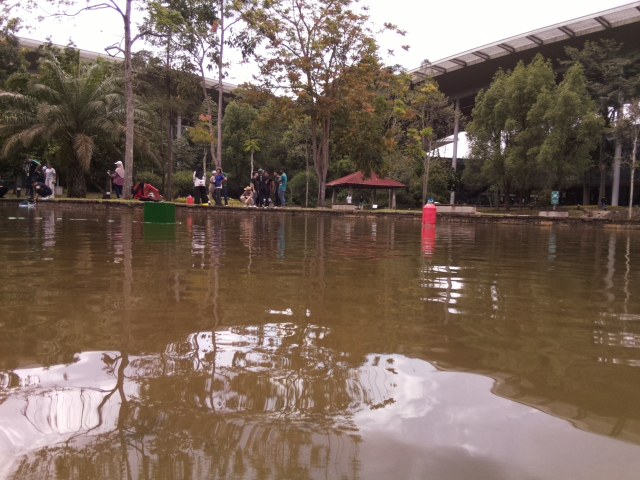obstacle: (142, 202, 177, 225)
